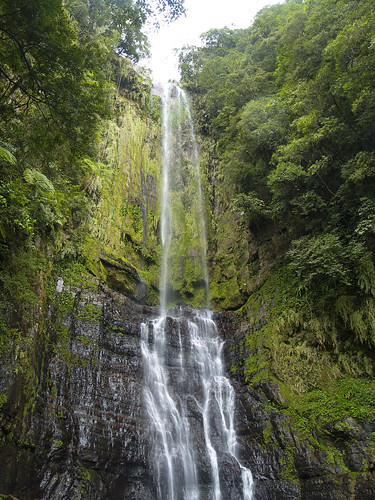wufengciWaterfall: (73, 59, 272, 500)
